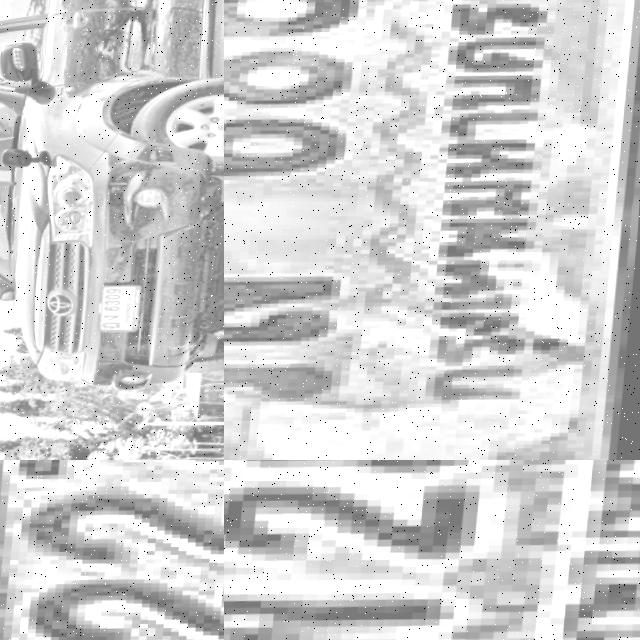license-plate: (224, 0, 640, 460), (224, 460, 640, 640), (0, 460, 224, 640), (101, 285, 149, 336)
